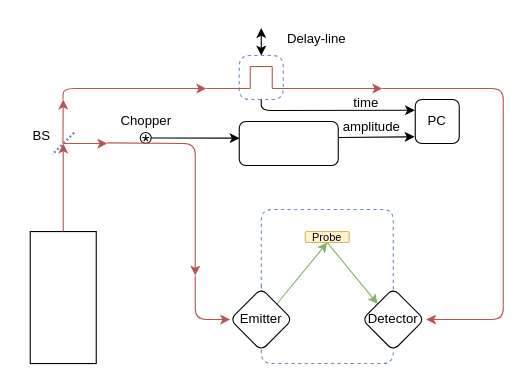
Some shapes in this 531 by 384 pixel diagram are drawn without their labels. Here are the shapes that lost their labels. From the top down, the centre of each, then its label:
At [288,143]: "lock-in amplifier".
At [62,297]: "fs-laser".
